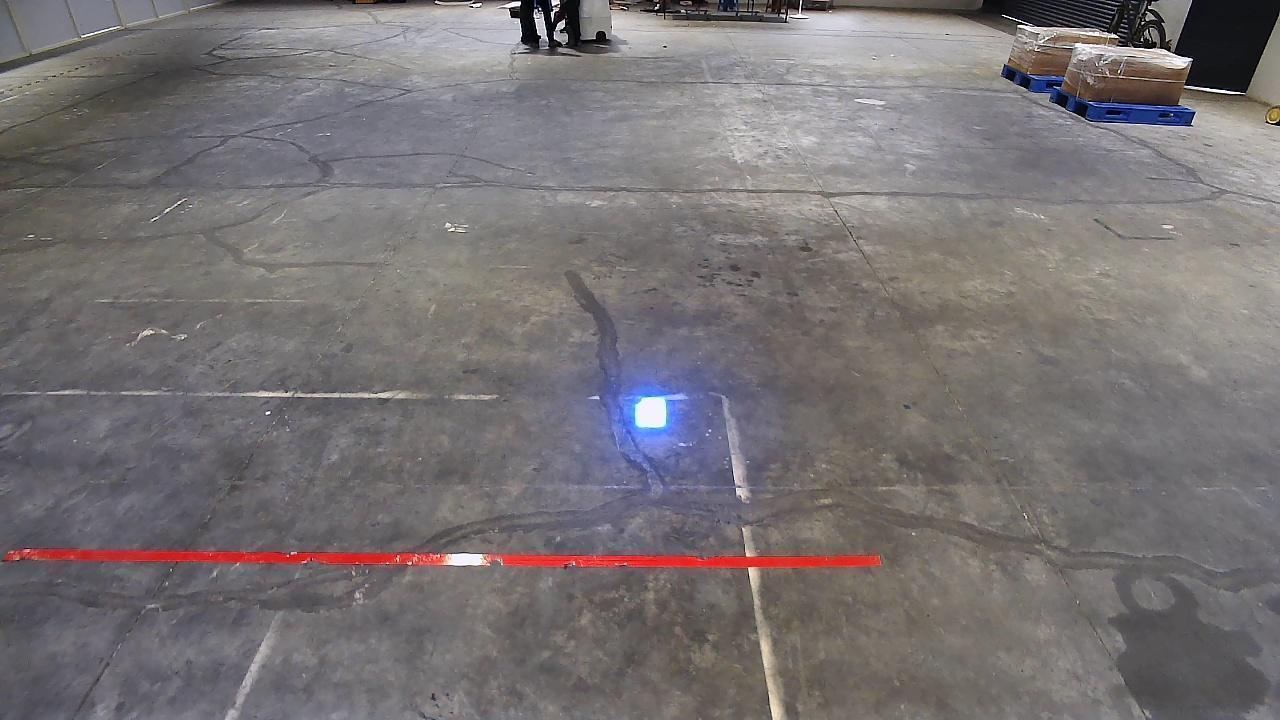red_line: (8, 547, 882, 566)
